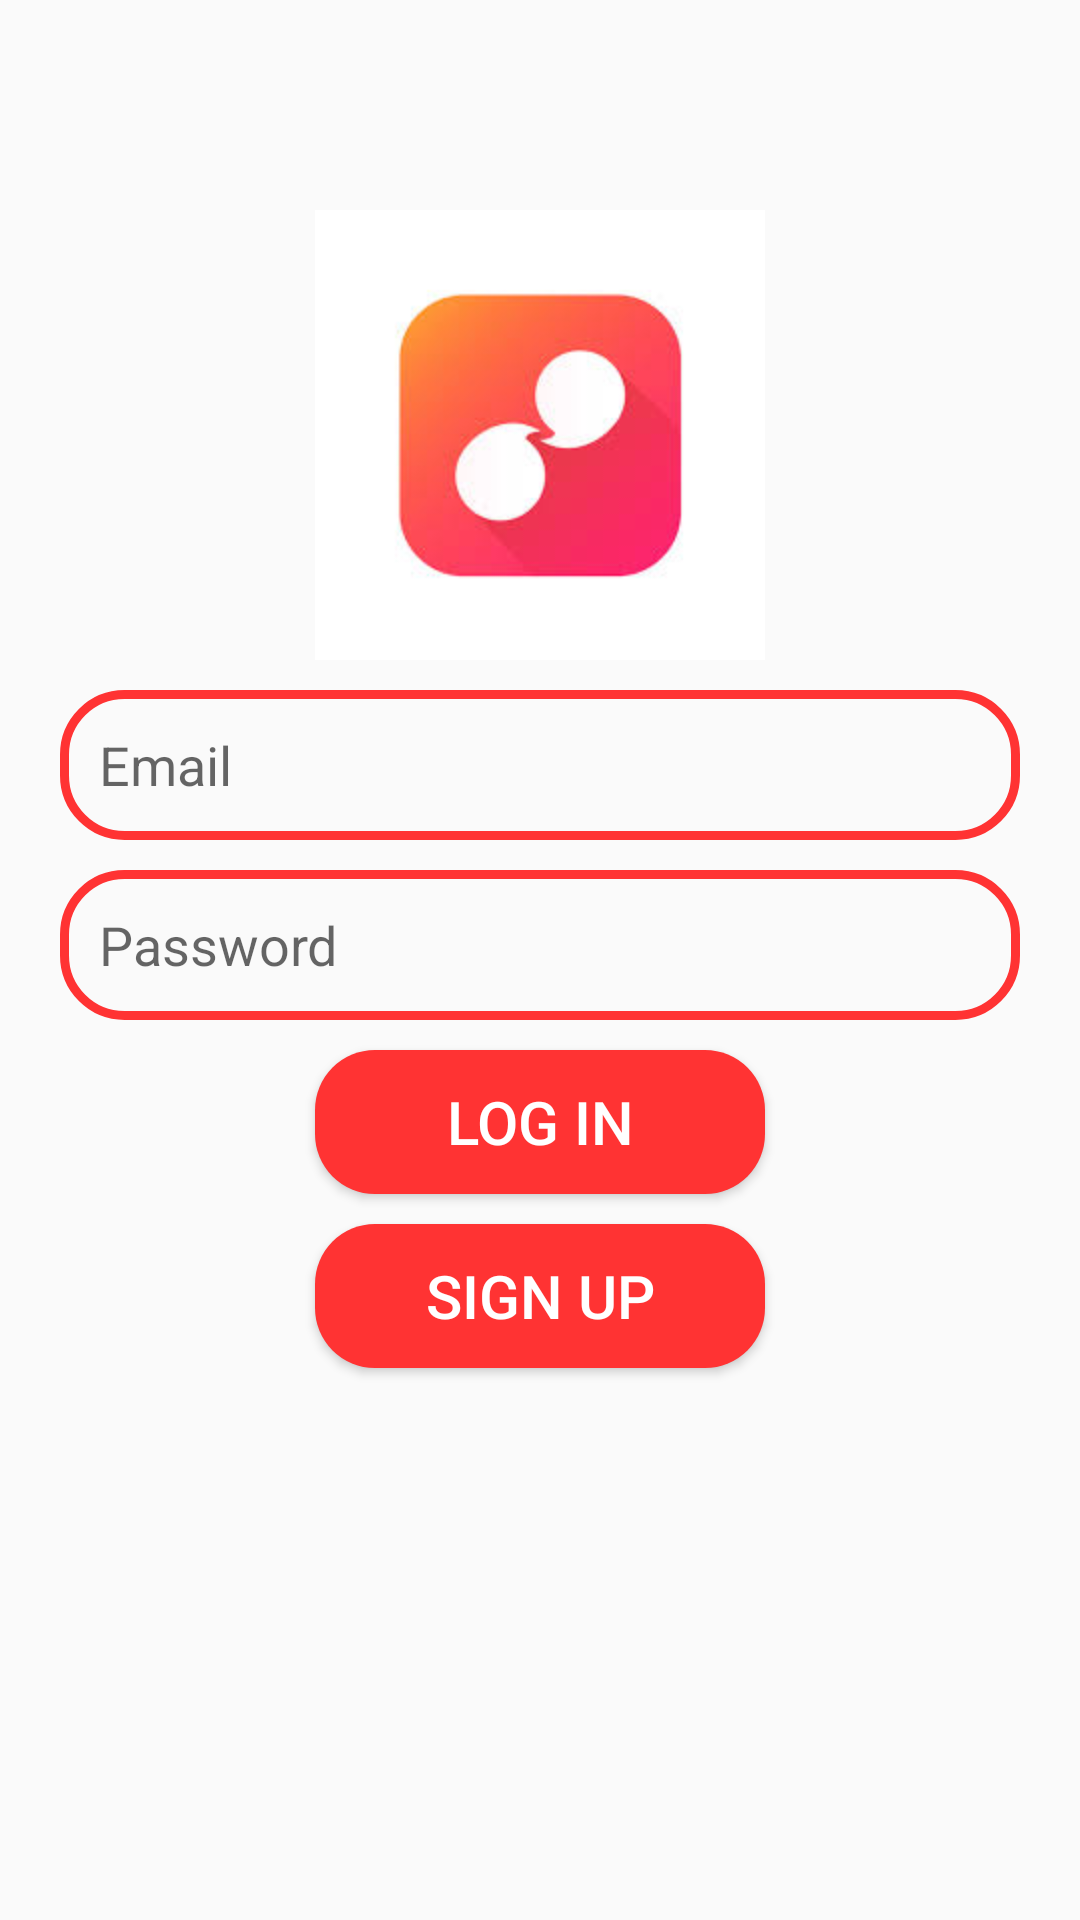

Locate icon controls on the screen. Image size 1080 x 1920, boxes as (x1, y1, x2, y2).
app: (398, 293, 682, 578)
